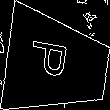P_E: (34, 42, 80, 87)
